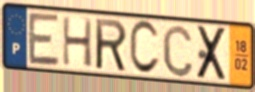C: (128, 19, 162, 78), (161, 22, 195, 79)
E: (27, 10, 62, 69)
H: (61, 15, 94, 70)
R: (94, 17, 129, 74)
X: (195, 25, 229, 83)
